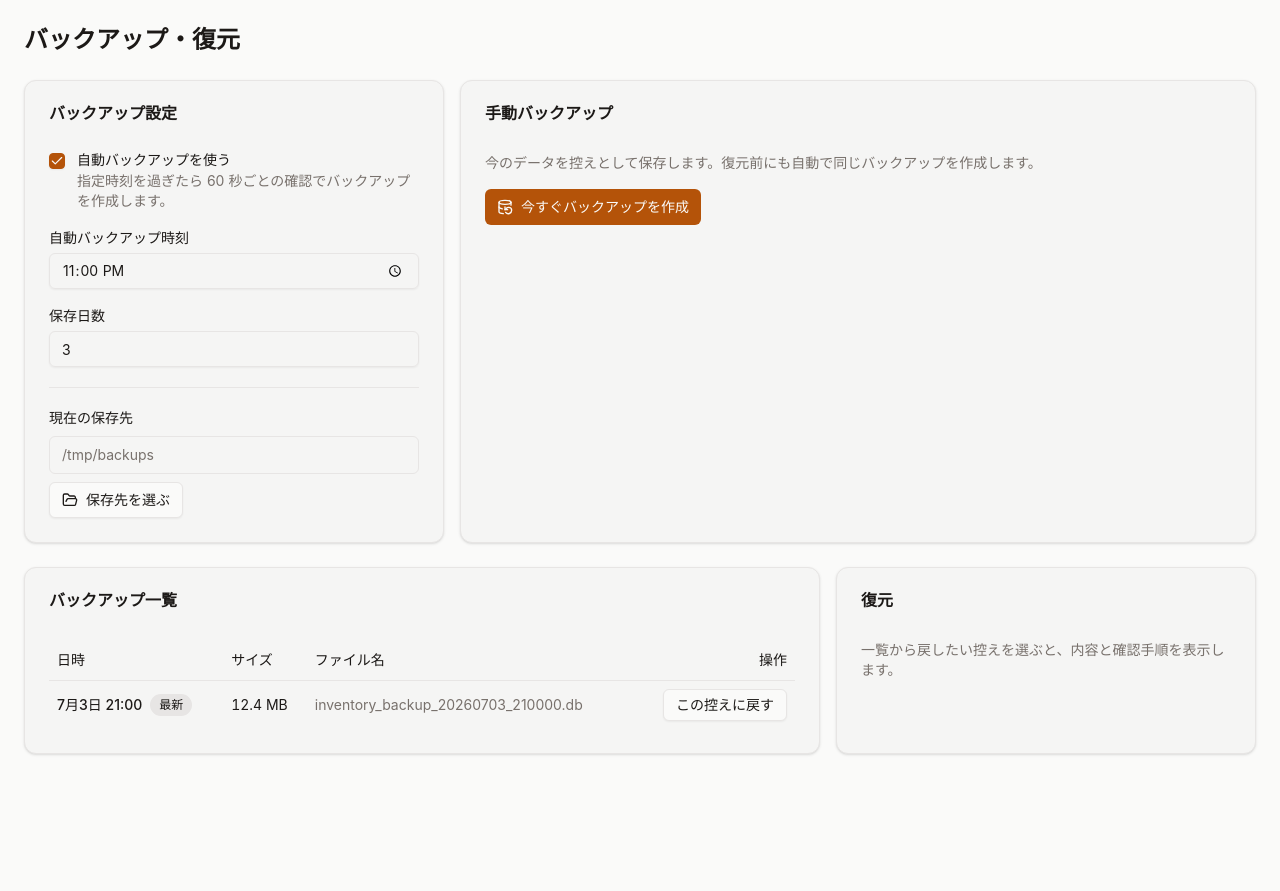
Test: BackupRestorePage (UI-11b / QR-05 / REQ-905) › QR-05 REQ-905 treats recovered restore failure as retryable
Expected: the heading "バックアップ・復元" is shown, left=24, top=25, right=240, bottom=54
Expected: the text "7月3日 21:00" is shown, left=57, top=696, right=142, bottom=712
What coordinates should you click on to do the following:
click the button "この控えに戻す"
I would click on:
 (725, 704)
Its box is left=663, top=688, right=787, bottom=720.
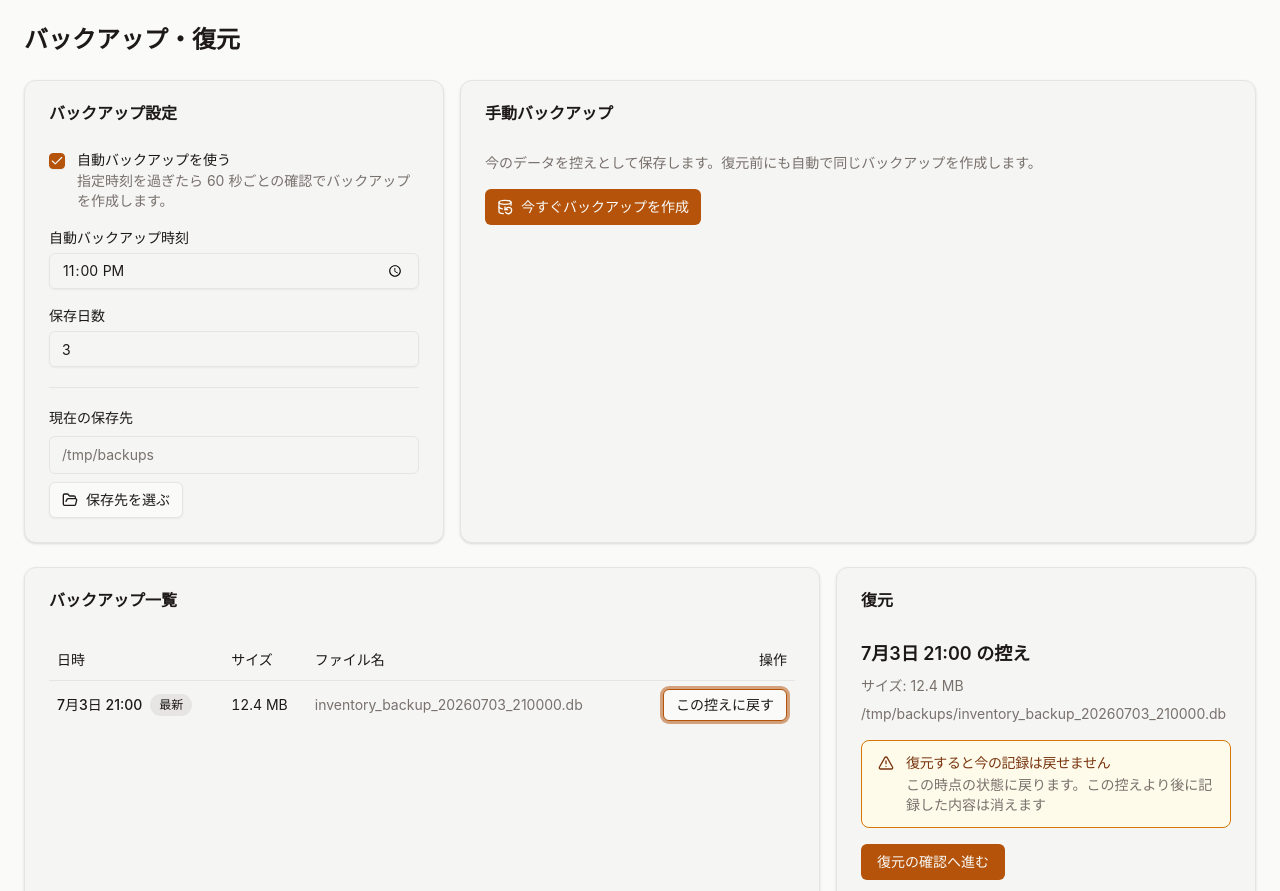
Now the text "この時点の状態に戻ります。この控えより後に記録した内容は消えます" is shown, box left=906, top=775, right=1214, bottom=815
What coordinates should you click on to do the following:
click the button "復元の確認へ進む"
I would click on:
 (933, 862)
Its box is left=861, top=844, right=1005, bottom=880.
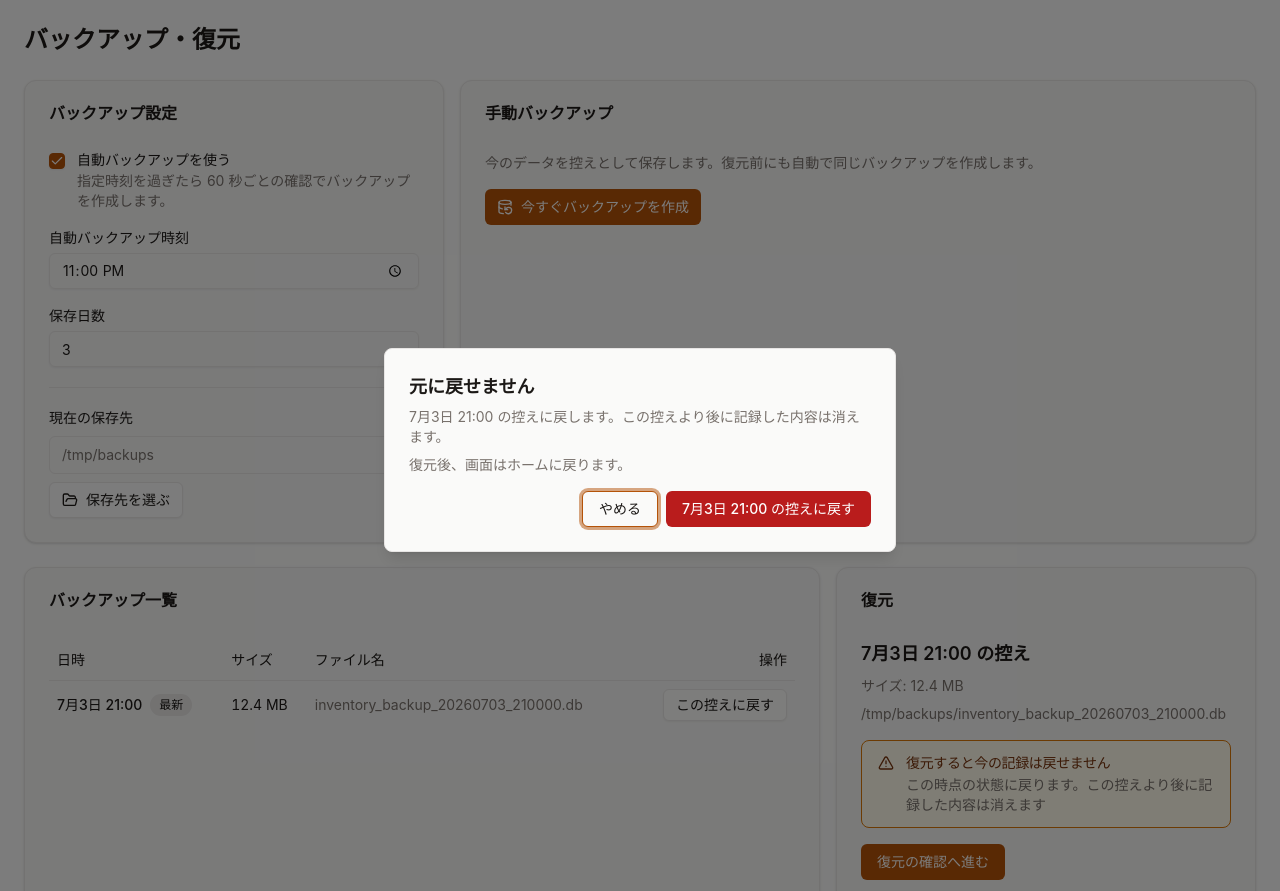
What coordinates should you click on to do the following:
click the button "7月3日 21:00 の控えに戻す"
I would click on:
 (768, 509)
Its box is left=666, top=491, right=871, bottom=527.
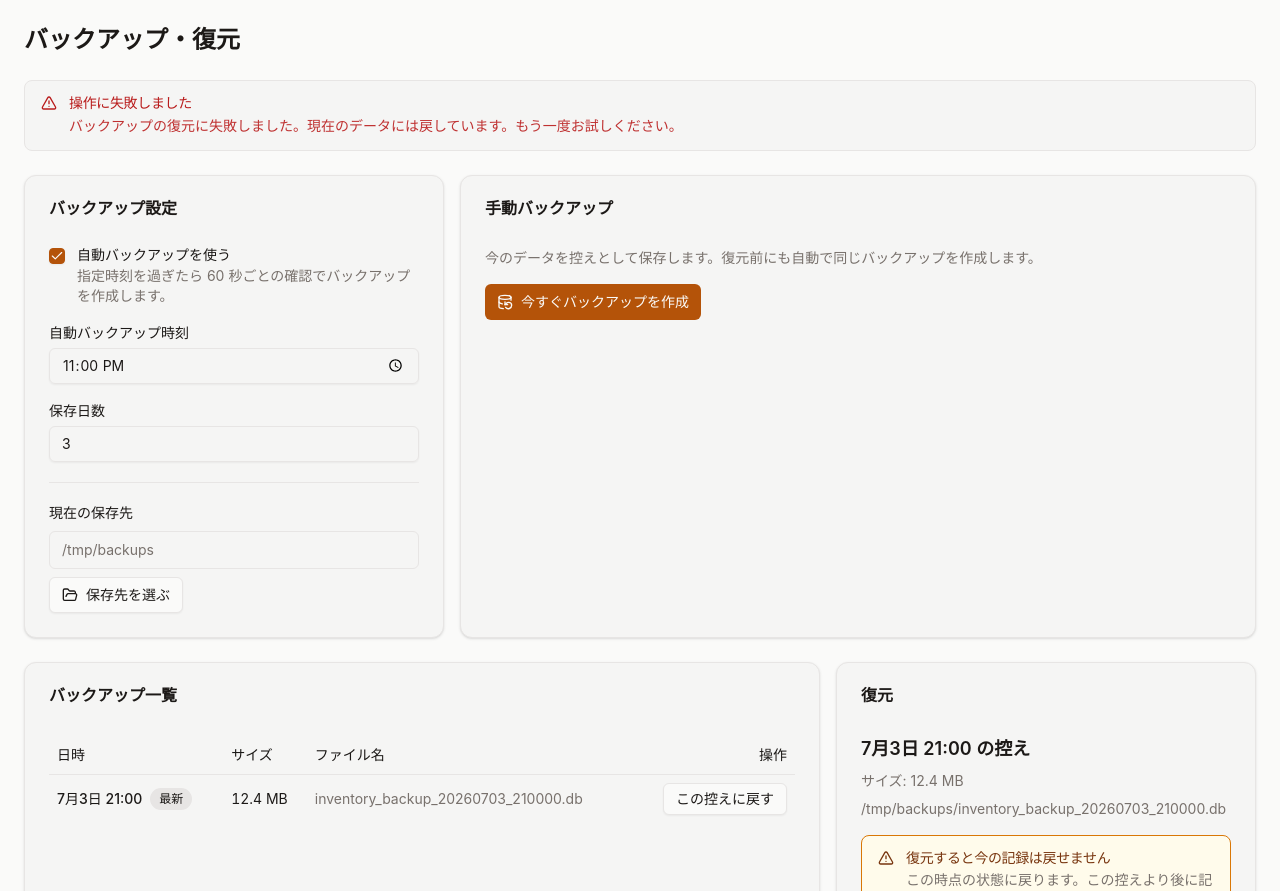
Expected: the button "今すぐバックアップを作成" is enabled, left=485, top=284, right=701, bottom=320
Now the text "バックアップの復元に失敗しました。現在のデータには戻しています。もう一度お試しください。" is shown, box left=69, top=115, right=683, bottom=138
